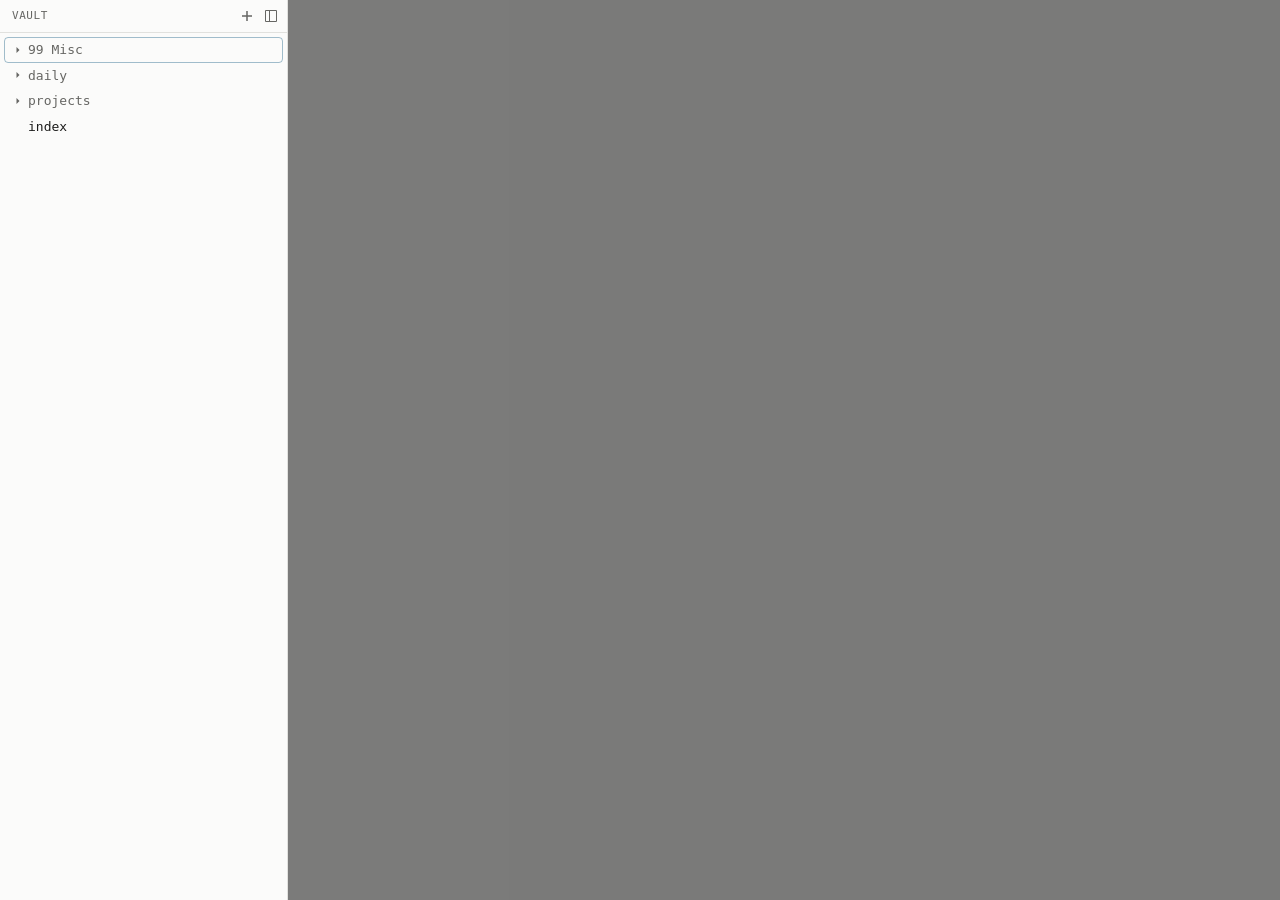
Test: images in the tree › draws an image row with its suffix, beside the notes
Click the button "99 Misc": (55, 50) [4,37,283,62]
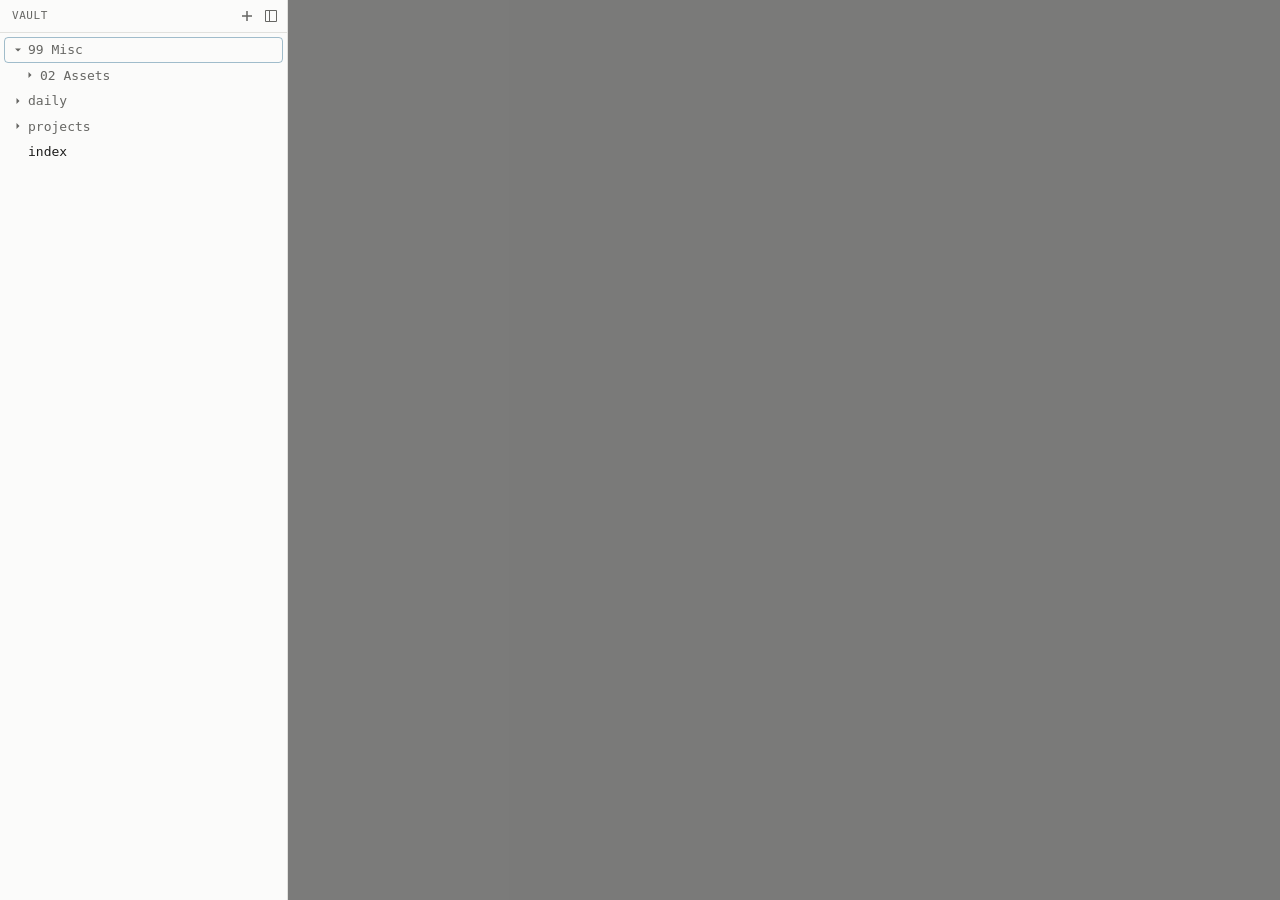
Click the button "daily": (48, 100) [4,88,283,114]
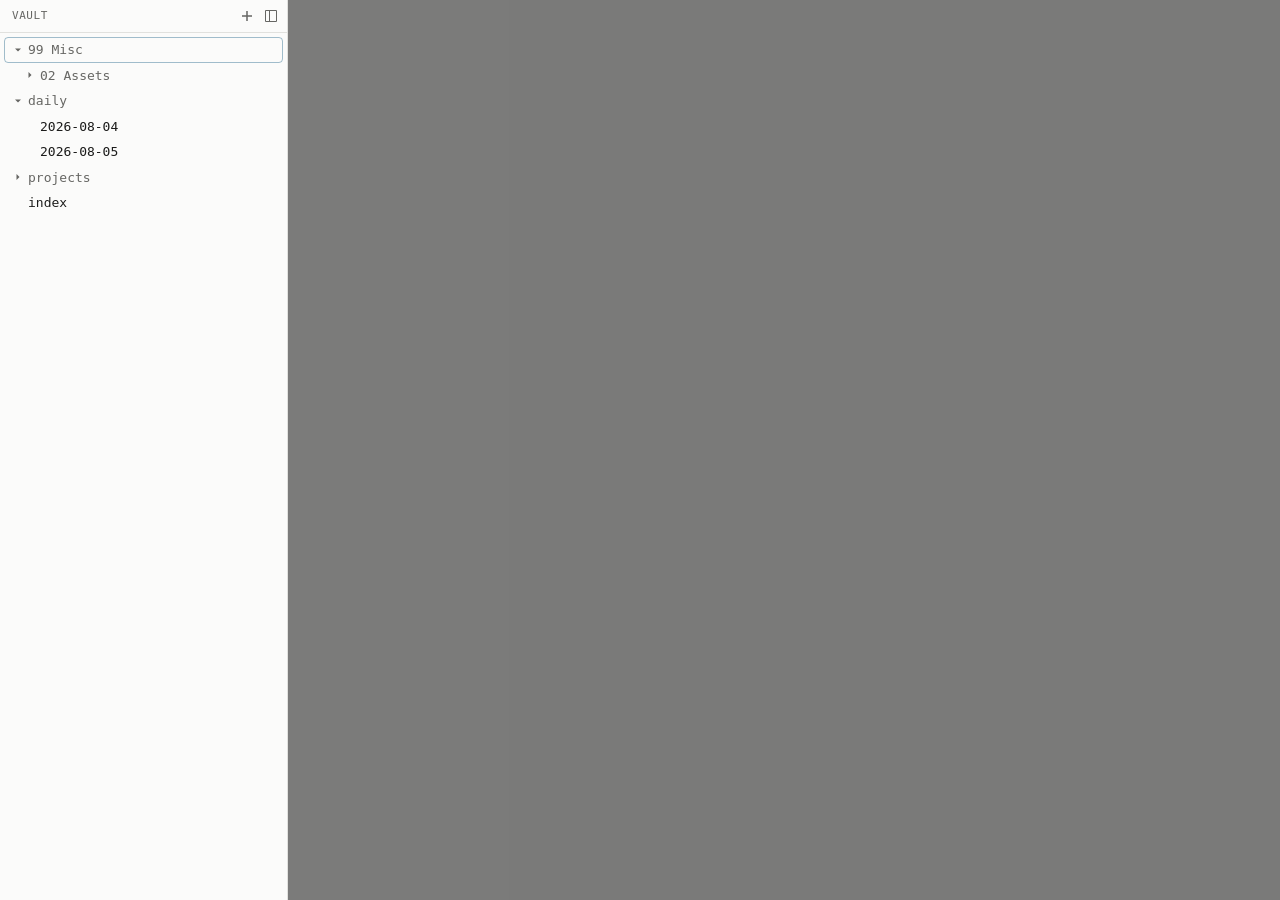
Click the button "projects": (59, 177) [4,164,283,190]
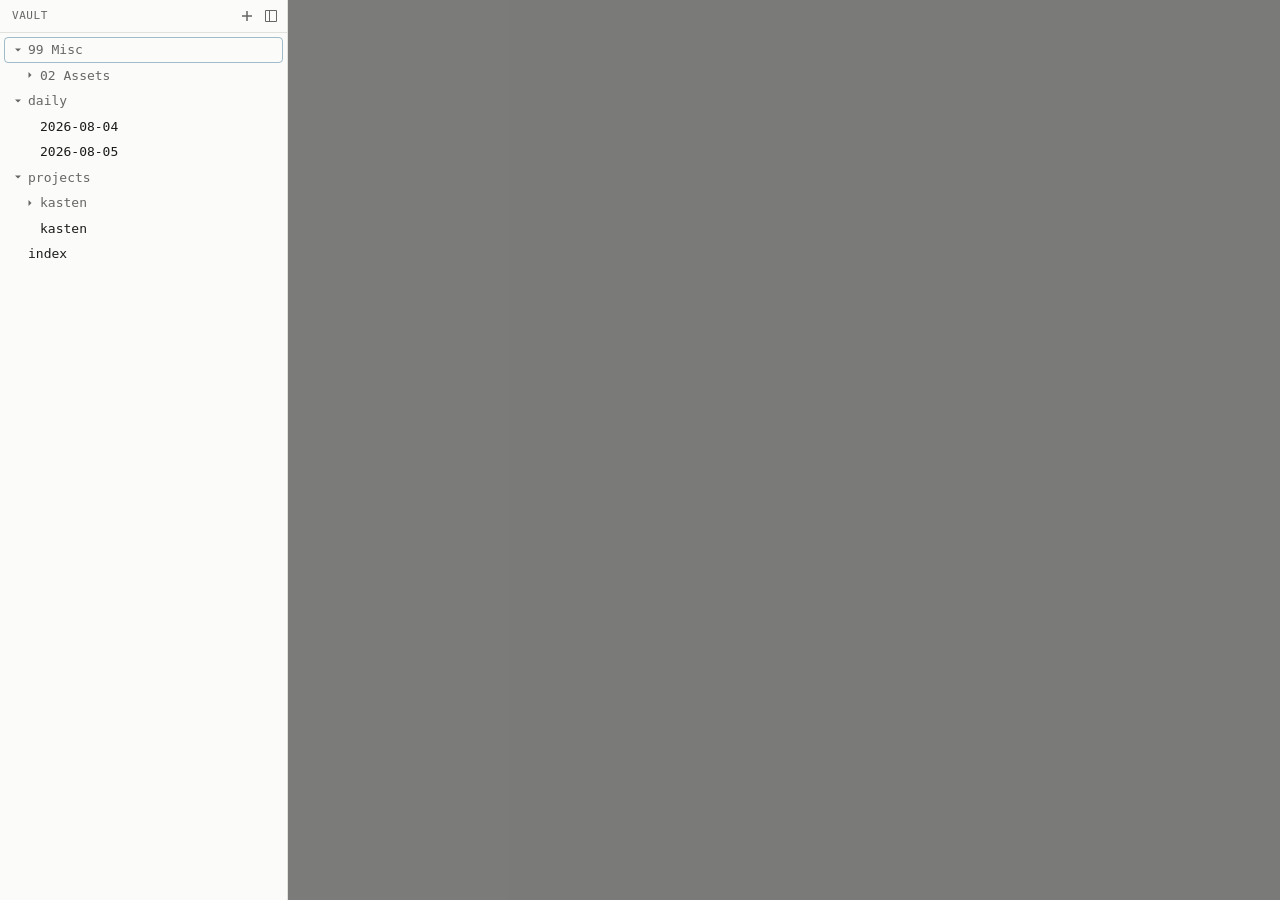
Click the button "02 Assets": (75, 75) [4,62,283,88]
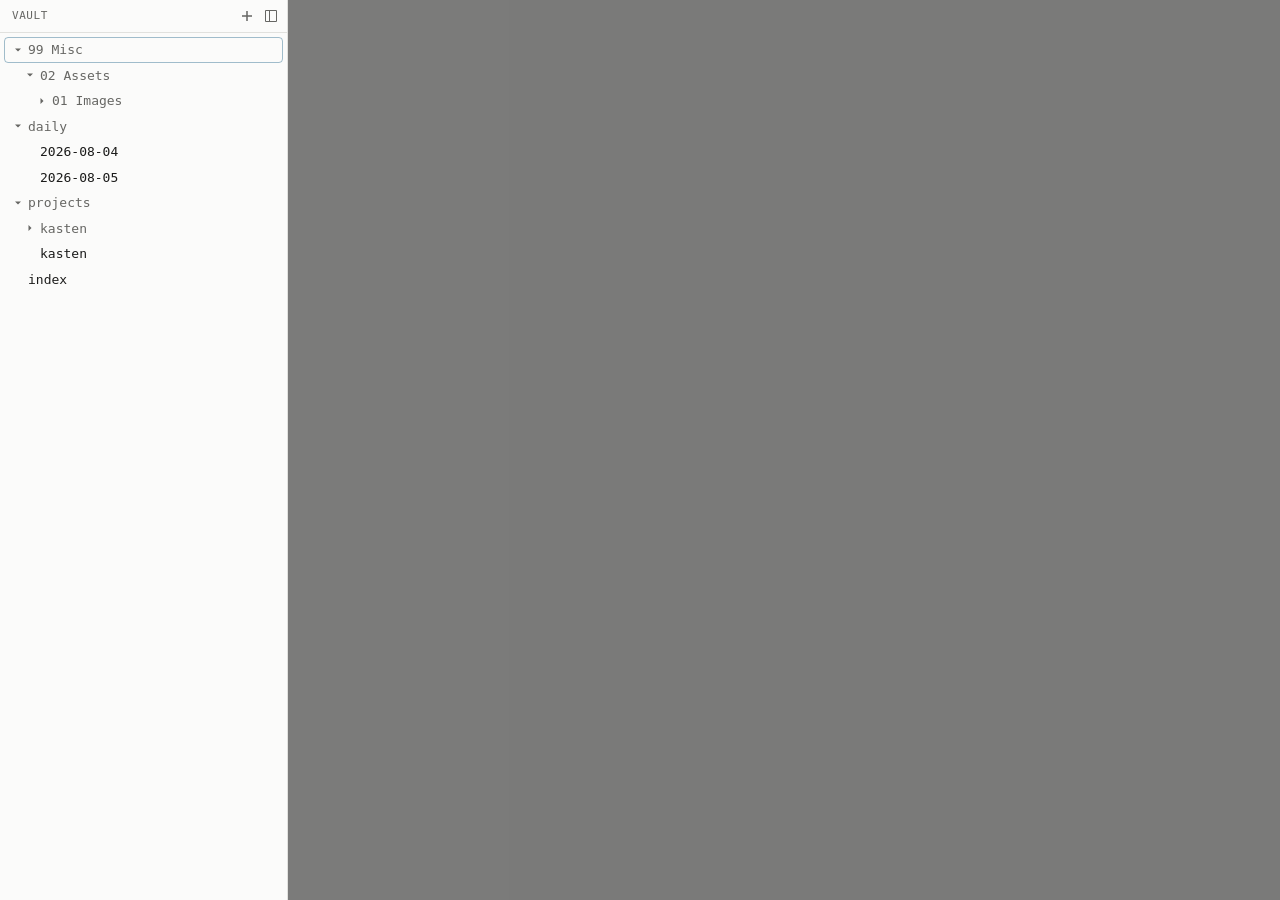
Click the 1st button "kasten": (63, 228) [4,216,283,241]
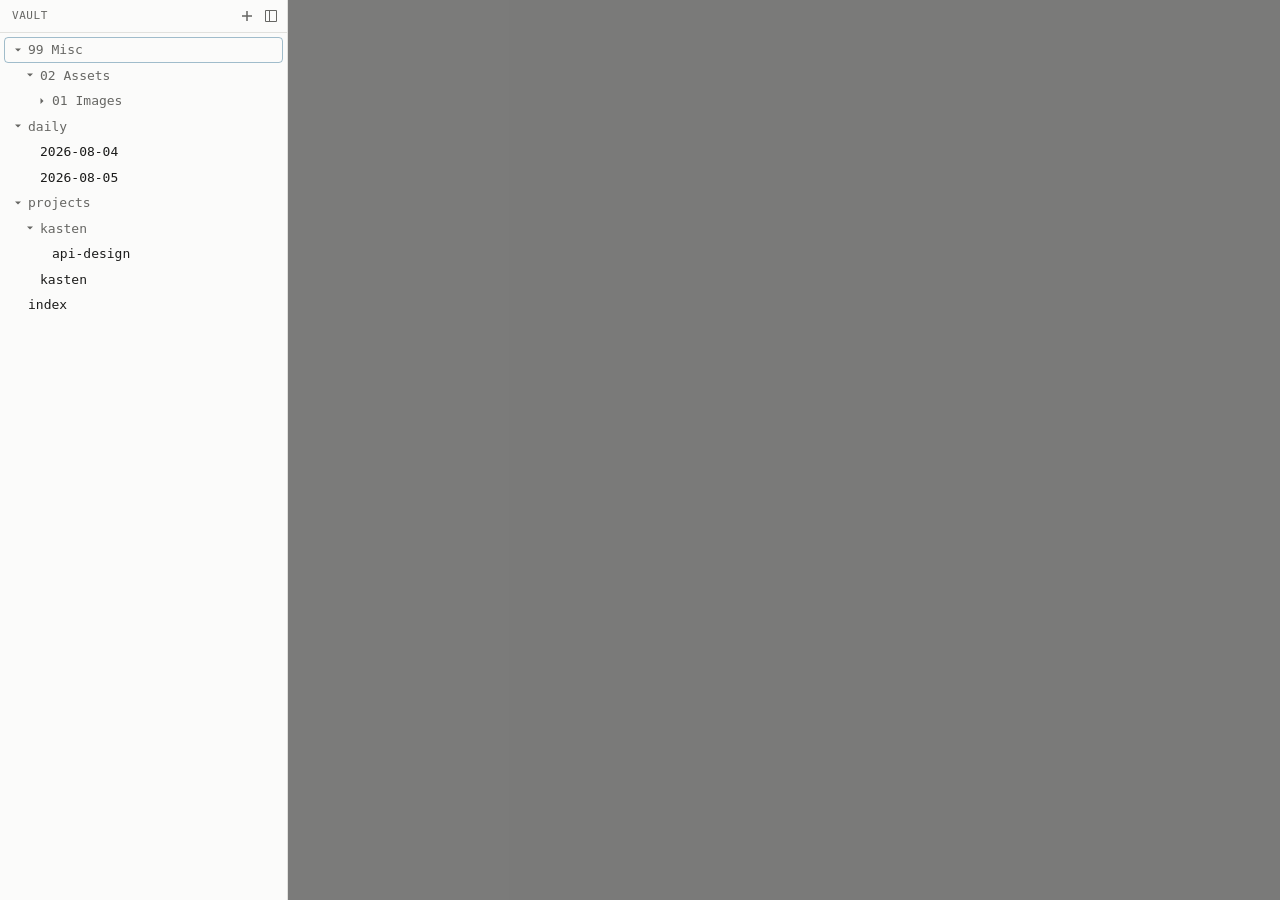
Click the button "01 Images": (87, 100) [4,88,283,114]
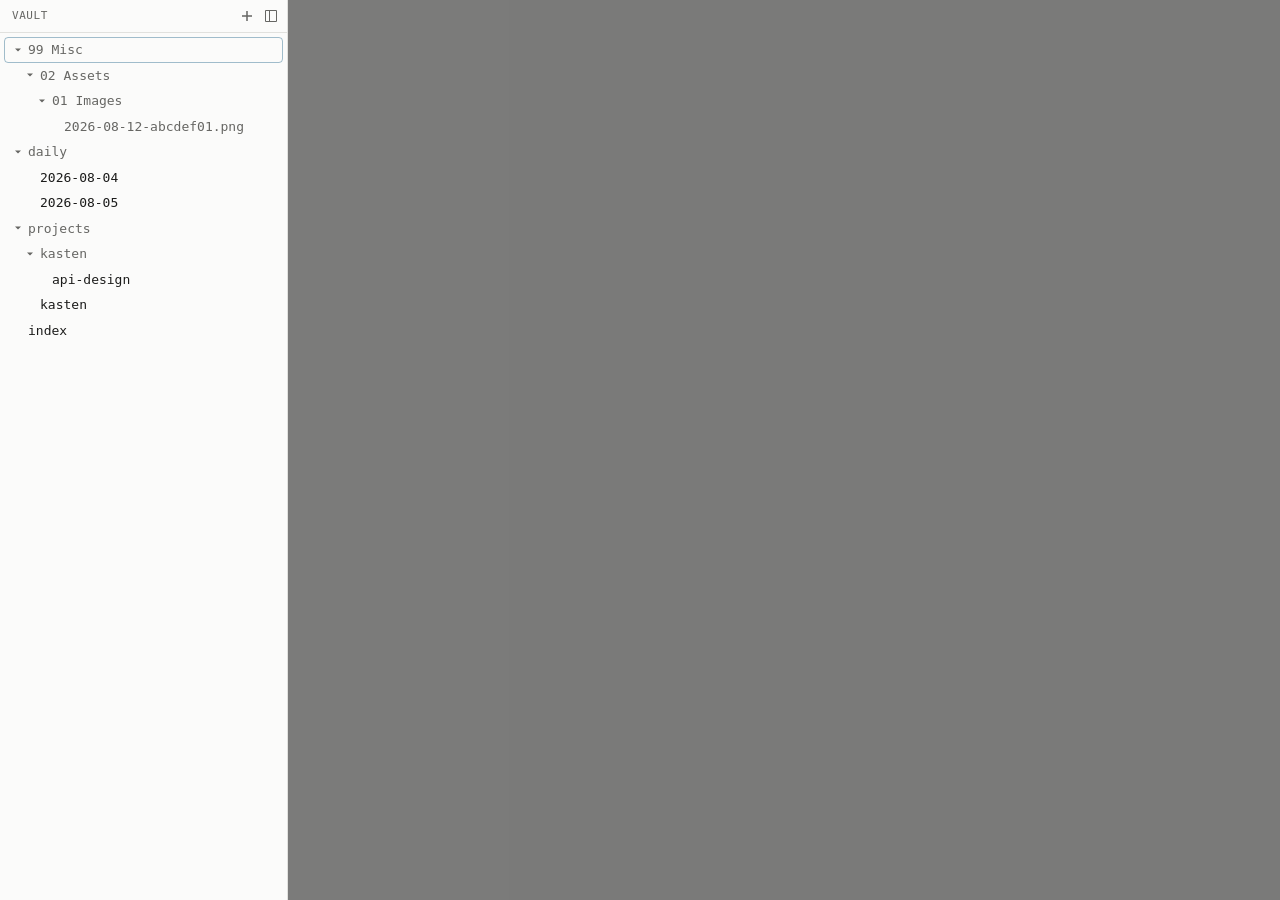
Check: the text "2026-08-12-abcdef01.png" is shown, box [64,116,244,136]
